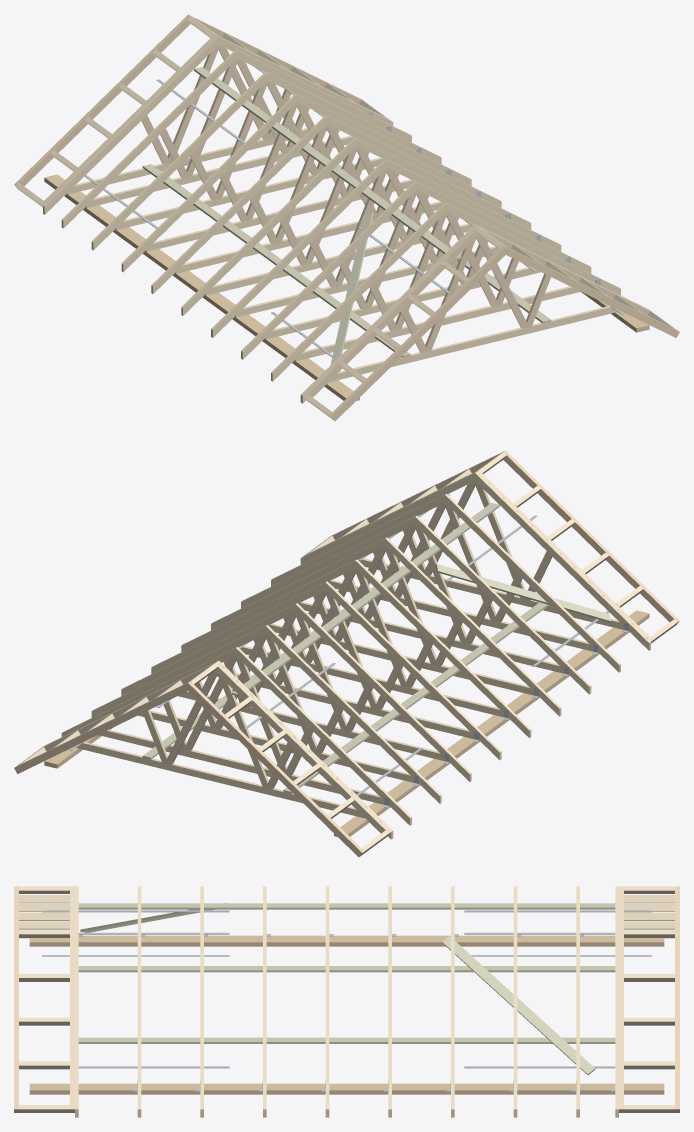
File: stage-3.glb
3 renders of one model, top to bottom at view 1: azimuth 30°, elevation 25°; view 2: azimuth 150°, elevation 25°; view 3: azimuth 270°, elevation 25°, orthographic. The views are drawn at different scales.
Visible parts, largest first — view 1: Geom3D_TC01 truss chord 35 x 72 TR26 L2465, Geom3D_TW04 truss web 35 x 72 TR26 L707, Geom3D_BG76 barge 47 x 72 C24 L2465, Geom3D_BN71 binder 22 x 97 C16 L5210, Geom3D, Geom3D_LR77 ladder rail 47 x 72 C24 L2465, Geom3D_OR78 outrigger 47 x 72 C24 L488, Geom3D_TCP38 clip; view 2: Geom3D_TC01 truss chord 35 x 72 TR26 L2465, Geom3D_TW04 truss web 35 x 72 TR26 L707, Geom3D_BG76 barge 47 x 72 C24 L2465, Geom3D_BN71 binder 22 x 97 C16 L5210, Geom3D, Geom3D_LR77 ladder rail 47 x 72 C24 L2465, Geom3D_OR78 outrigger 47 x 72 C24 L488, Geom3D_TCP38 clip; view 3: Geom3D, Geom3D_BN71 binder 22 x 97 C16 L5210, Geom3D_TC01 truss chord 35 x 72 TR26 L2465, Geom3D_OR78 outrigger 47 x 72 C24 L488, Geom3D_TCP38 clip, Geom3D_BG76 barge 47 x 72 C24 L2465, Geom3D_LR77 ladder rail 47 x 72 C24 L2465.
Part boxes in pixels (x1,y1,x2,y2): Geom3D_TC01 truss chord 35 x 72 TR26 L2465: (43, 36, 649, 403); Geom3D_TW04 truss web 35 x 72 TR26 L707: (141, 45, 550, 353); Geom3D_BG76 barge 47 x 72 C24 L2465: (14, 14, 679, 421); Geom3D_BN71 binder 22 x 97 C16 L5210: (142, 67, 551, 365); Geom3D: (44, 174, 649, 400); Geom3D_LR77 ladder rail 47 x 72 C24 L2465: (41, 34, 651, 401); Geom3D_OR78 outrigger 47 x 72 C24 L488: (16, 16, 676, 419); Geom3D_TCP38 clip: (84, 67, 624, 357); Geom3D_TC01 truss chord 35 x 72 TR26 L2465: (44, 472, 650, 839); Geom3D_TW04 truss web 35 x 72 TR26 L707: (143, 481, 552, 789); Geom3D_BG76 barge 47 x 72 C24 L2465: (14, 450, 679, 857); Geom3D_BN71 binder 22 x 97 C16 L5210: (142, 503, 610, 793); Geom3D: (44, 610, 649, 836); Geom3D_LR77 ladder rail 47 x 72 C24 L2465: (42, 470, 652, 837); Geom3D_OR78 outrigger 47 x 72 C24 L488: (17, 452, 677, 855); Geom3D_TCP38 clip: (69, 494, 628, 820); Geom3D: (29, 935, 664, 1094); Geom3D_BN71 binder 22 x 97 C16 L5210: (78, 903, 615, 1074); Geom3D_TC01 truss chord 35 x 72 TR26 L2465: (75, 886, 618, 1117); Geom3D_OR78 outrigger 47 x 72 C24 L488: (19, 886, 674, 1112); Geom3D_TCP38 clip: (42, 910, 651, 1091); Geom3D_BG76 barge 47 x 72 C24 L2465: (14, 886, 679, 1112); Geom3D_LR77 ladder rail 47 x 72 C24 L2465: (70, 886, 623, 1112).
Size of the model in its own units: 4.04 by 1.5 by 6.38.
